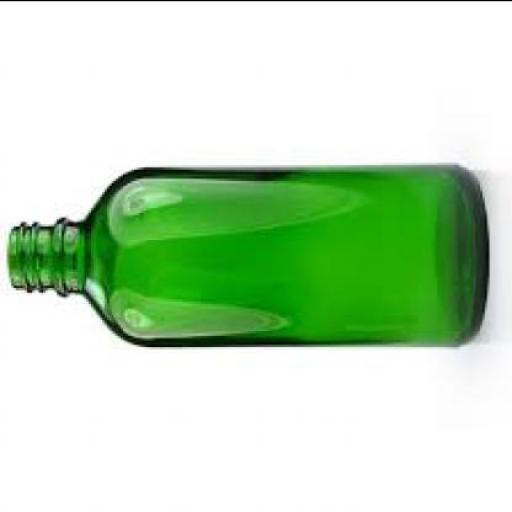glass: (7, 166, 487, 348)
